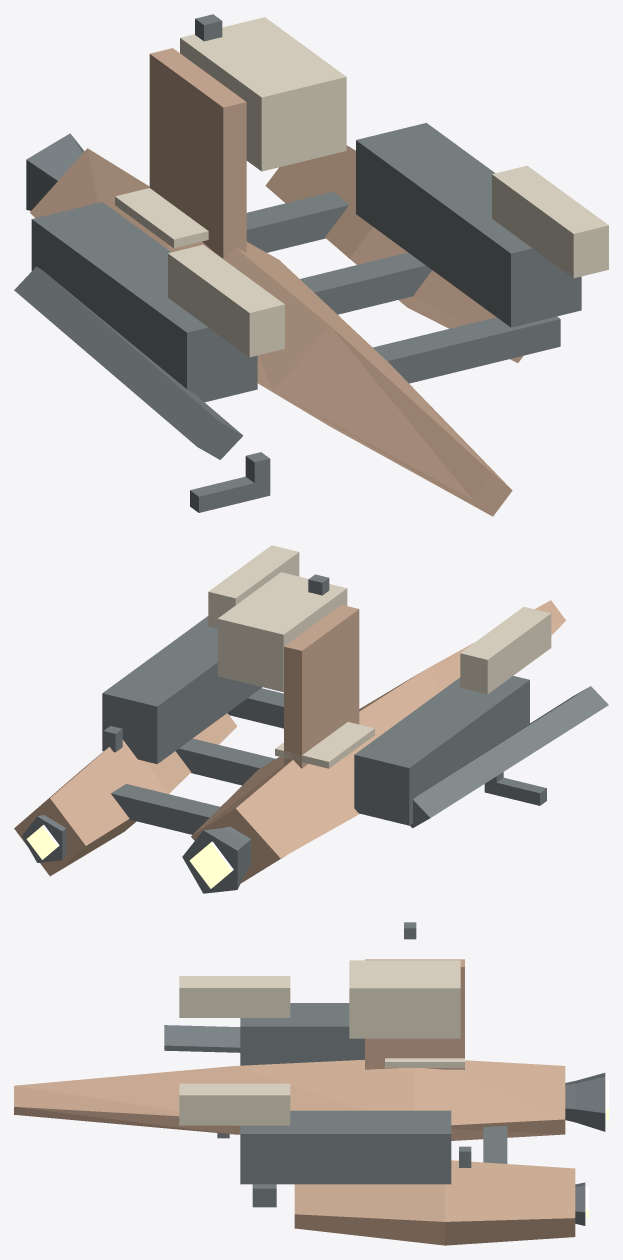
3 views of the same model, one above another, from view 1: azimuth 30°, elevation 25°; view 2: azimuth 150°, elevation 25°; view 3: azimuth 270°, elevation 25° (orthographic). The views are drawn at different scales.
Bounding box in the file's own units: 13.42 × 9.77 × 21.42.
